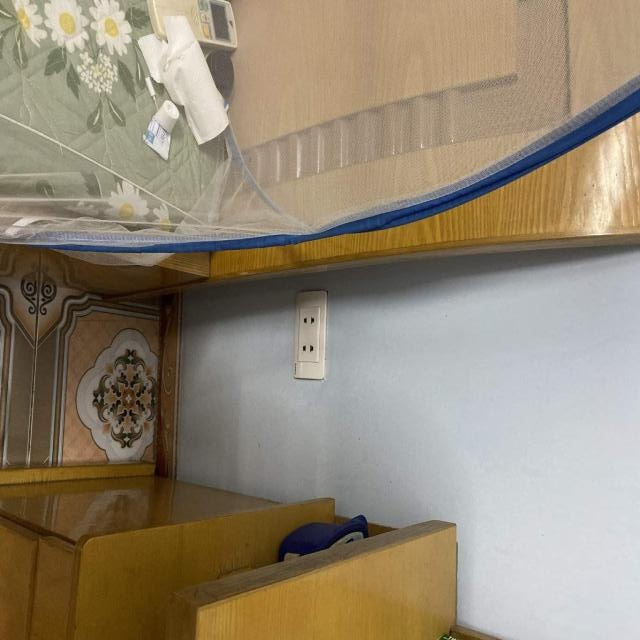outlet: (294, 289, 328, 380)
